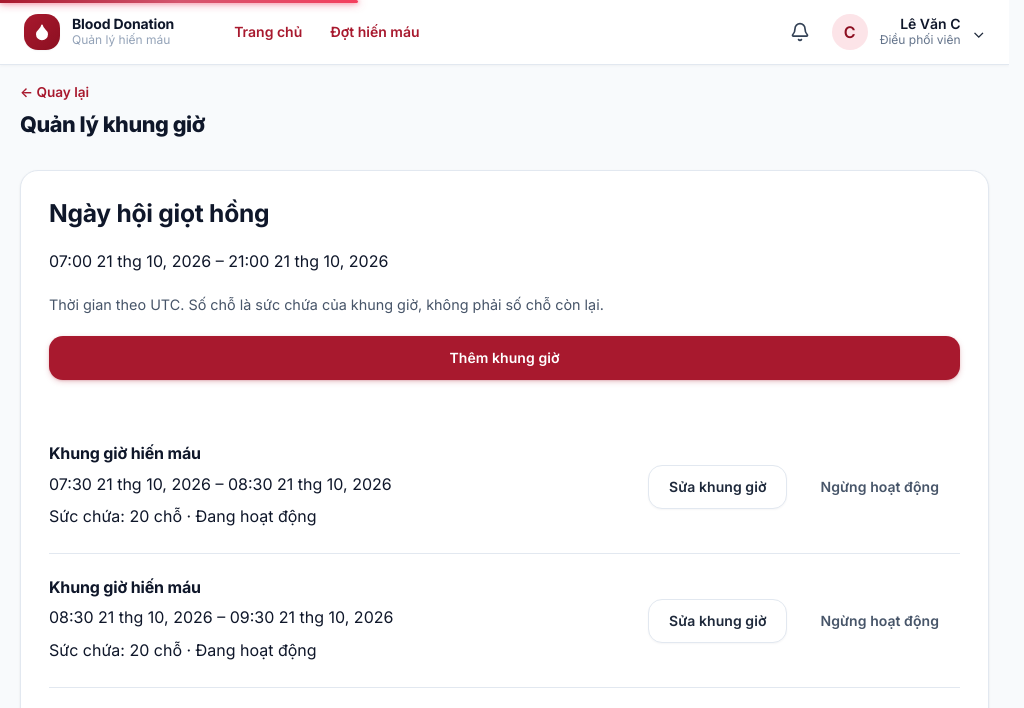
Test case: Campaign forms and actions › validates slot ranges and saves an edited capacity
Click the 1st button "Sửa khung giờ" at (718, 487), box x1=648 y1=465 x2=788 y2=509
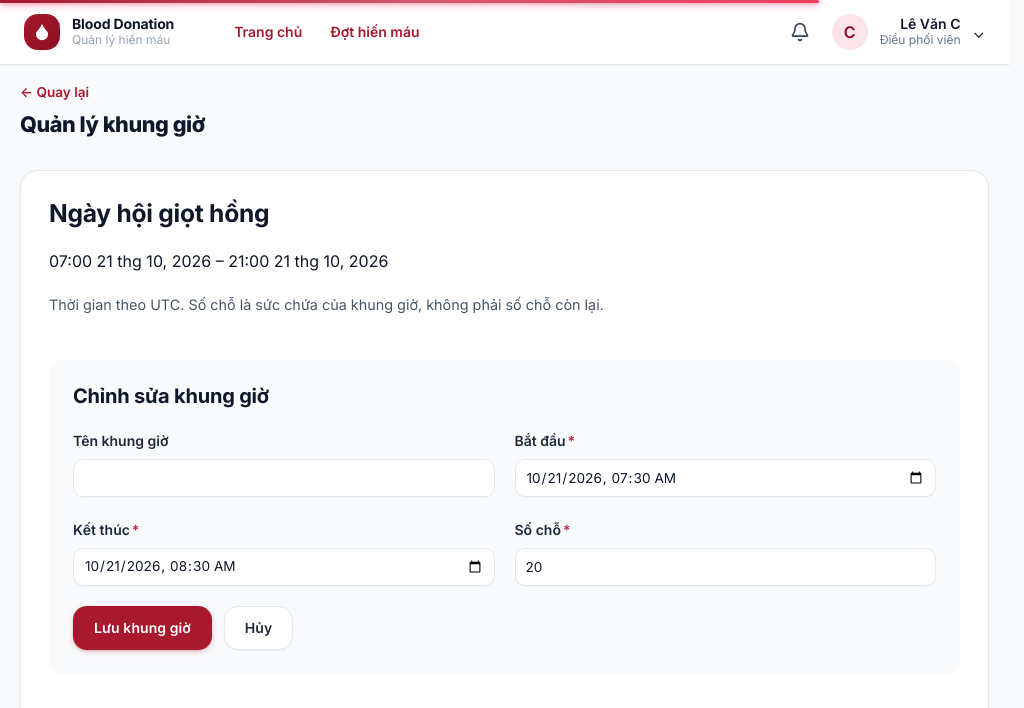
Replace the text in the number field labelled "Số chỗ*" with "0" at (725, 567), box x1=514 y1=548 x2=936 y2=586
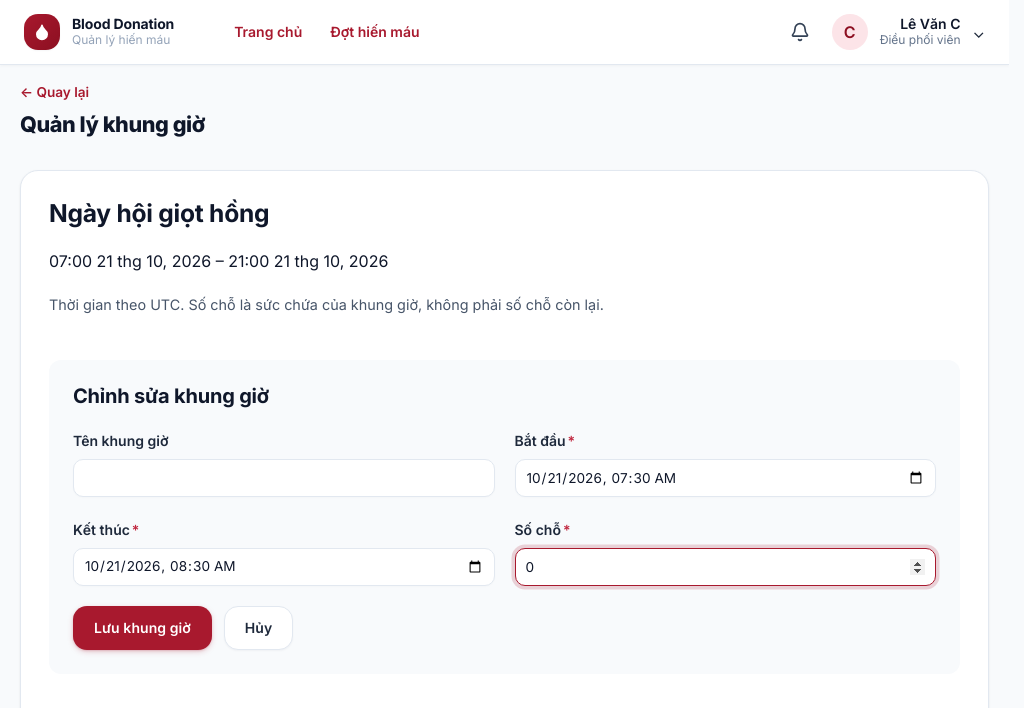
Click the button "Lưu khung giờ" at (142, 628), box x1=73 y1=606 x2=212 y2=650
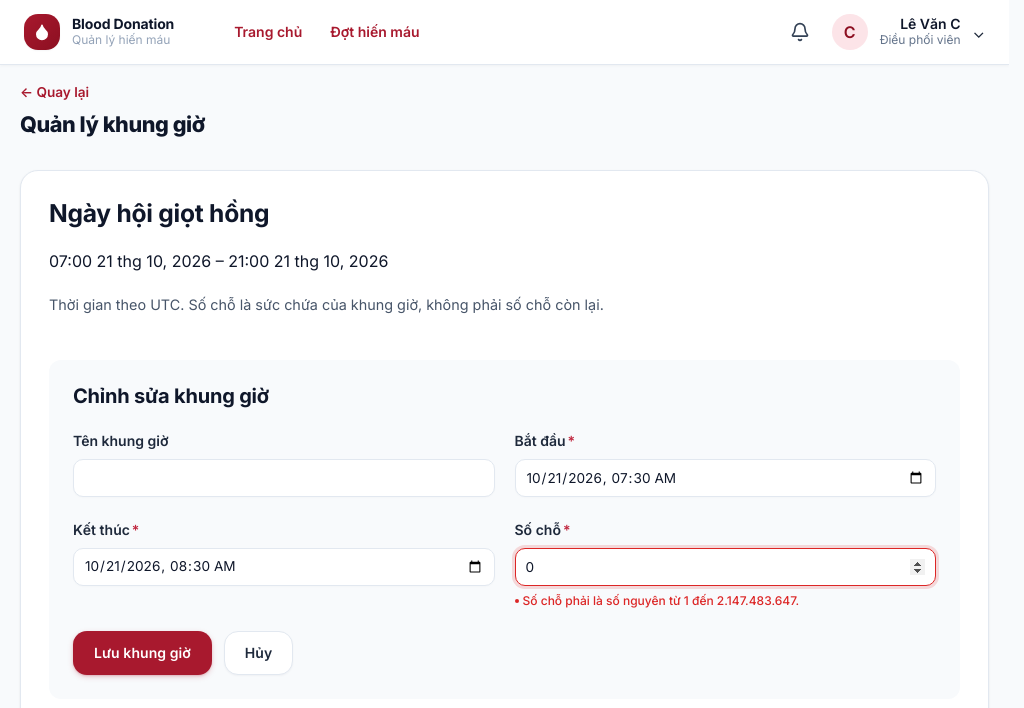
Replace the text in the number field labelled "Số chỗ*" with "30" at (725, 567), box x1=514 y1=548 x2=936 y2=586
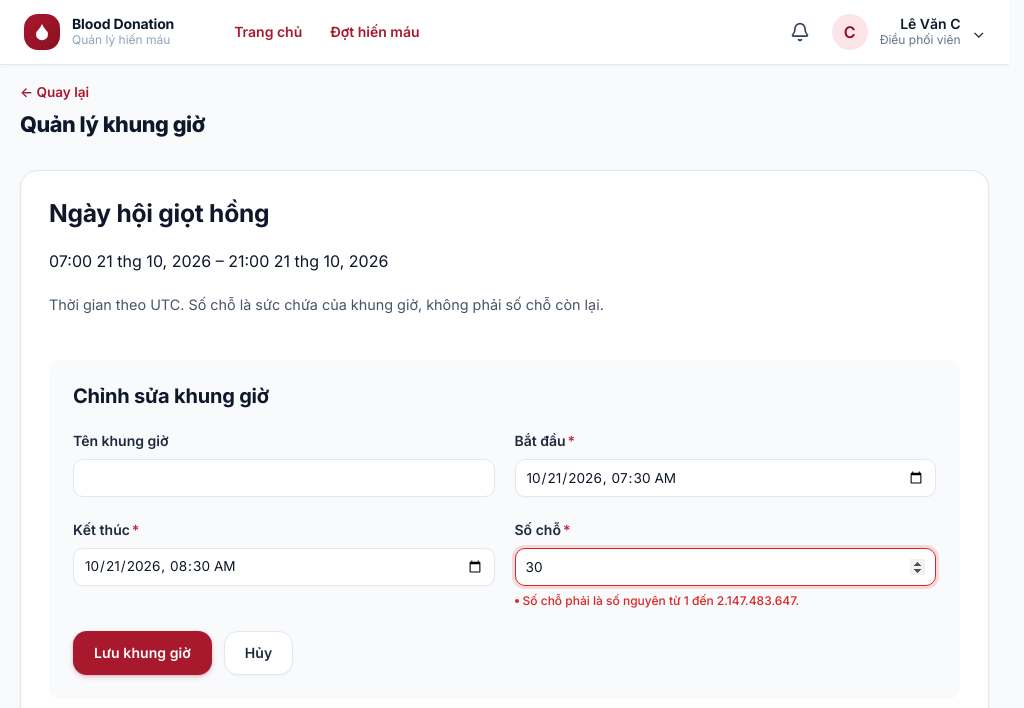
Click the button "Lưu khung giờ" at (142, 653), box x1=73 y1=631 x2=212 y2=675
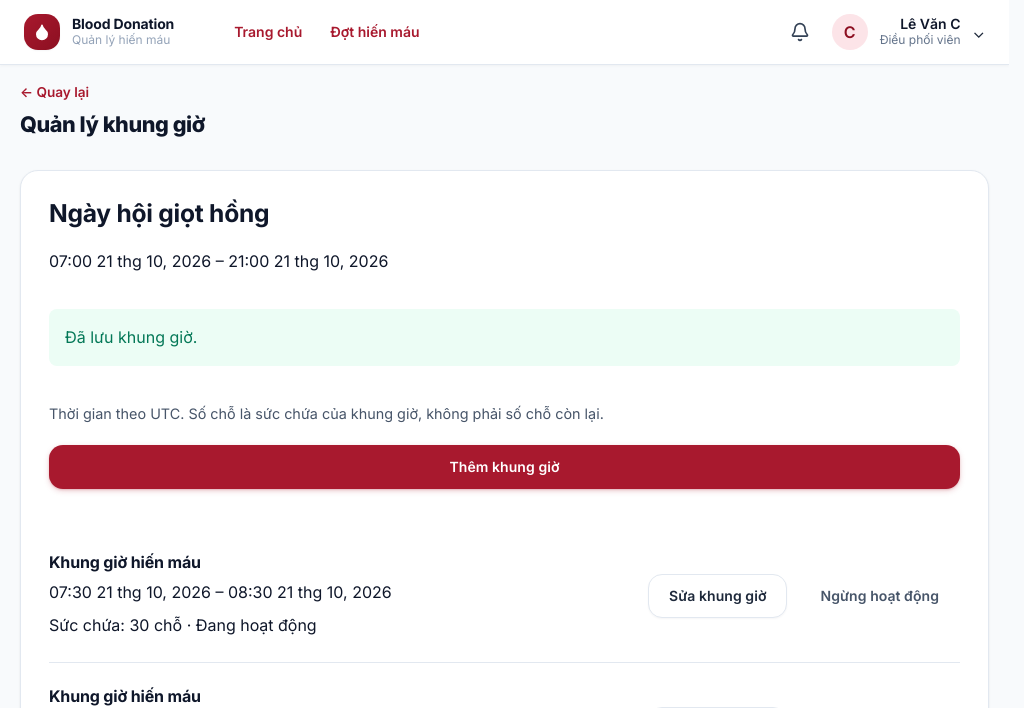
Result: the text "Đã lưu khung giờ." is shown at x1=49 y1=309 x2=960 y2=366
